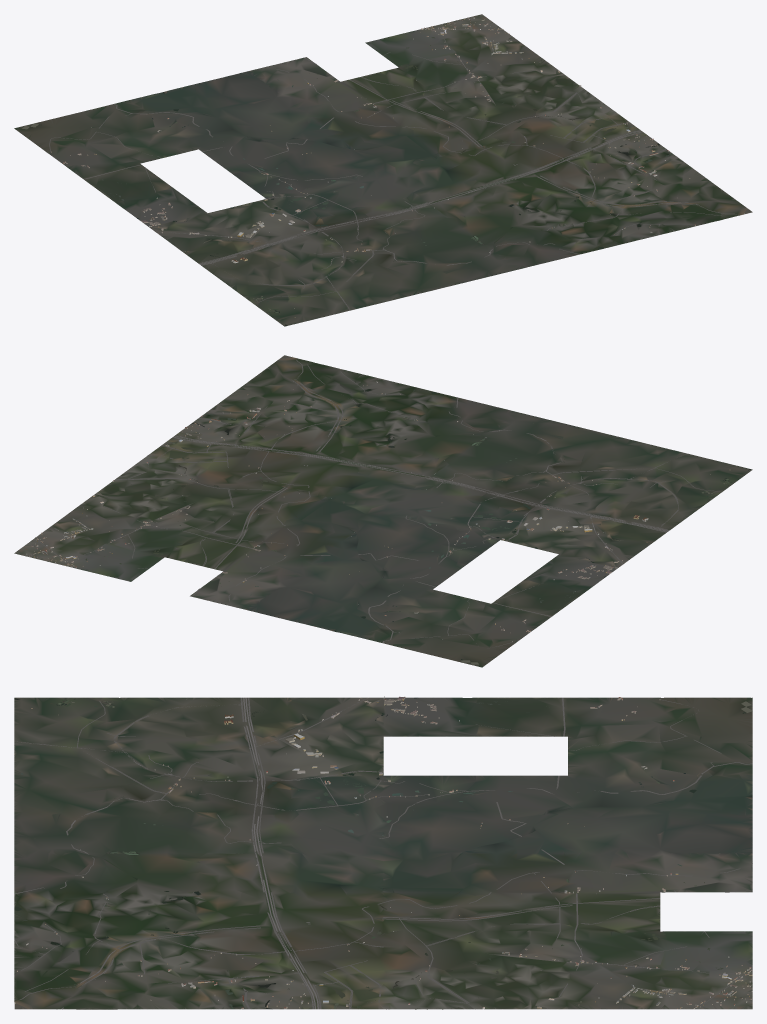
3 renders of one model, top to bottom at view 1: azimuth 30°, elevation 25°; view 2: azimuth 150°, elevation 25°; view 3: azimuth 270°, elevation 25°, orthographic. The views are drawn at different scales.
Parts seen in each view (by area): view 1: ground, roads, buildings, water; view 2: ground, roads, buildings, water; view 3: ground, roads, buildings, water.
Part boxes in pixels (x1,y1,x2,y2): ground: [14, 14, 752, 326]; roads: [49, 29, 742, 310]; buildings: [51, 17, 744, 317]; water: [22, 22, 716, 326]; ground: [14, 355, 752, 667]; roads: [38, 358, 720, 646]; buildings: [25, 356, 730, 641]; water: [47, 380, 751, 664]; ground: [14, 697, 752, 1009]; roads: [14, 697, 752, 1009]; buildings: [15, 696, 752, 1009]; water: [14, 697, 752, 1009].
Bounding box in the file's own units: 11218 × 41.12 × 11227.
